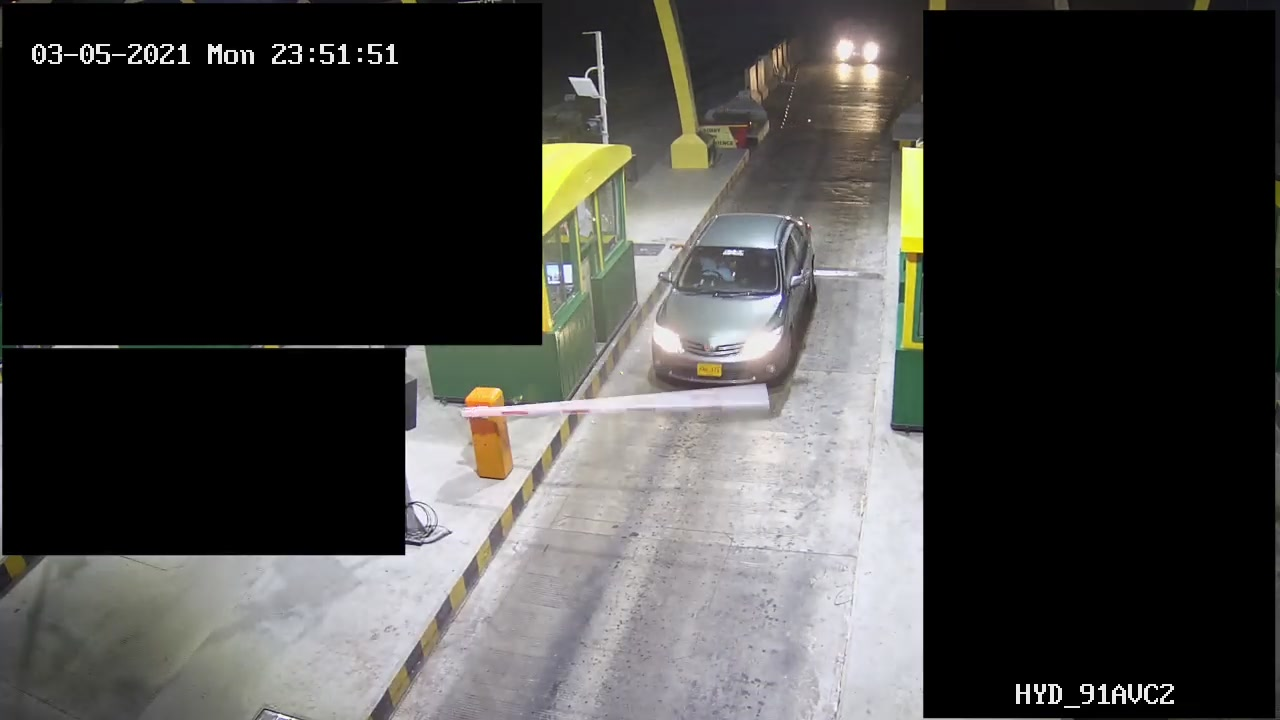F1: (649, 204, 823, 397)
